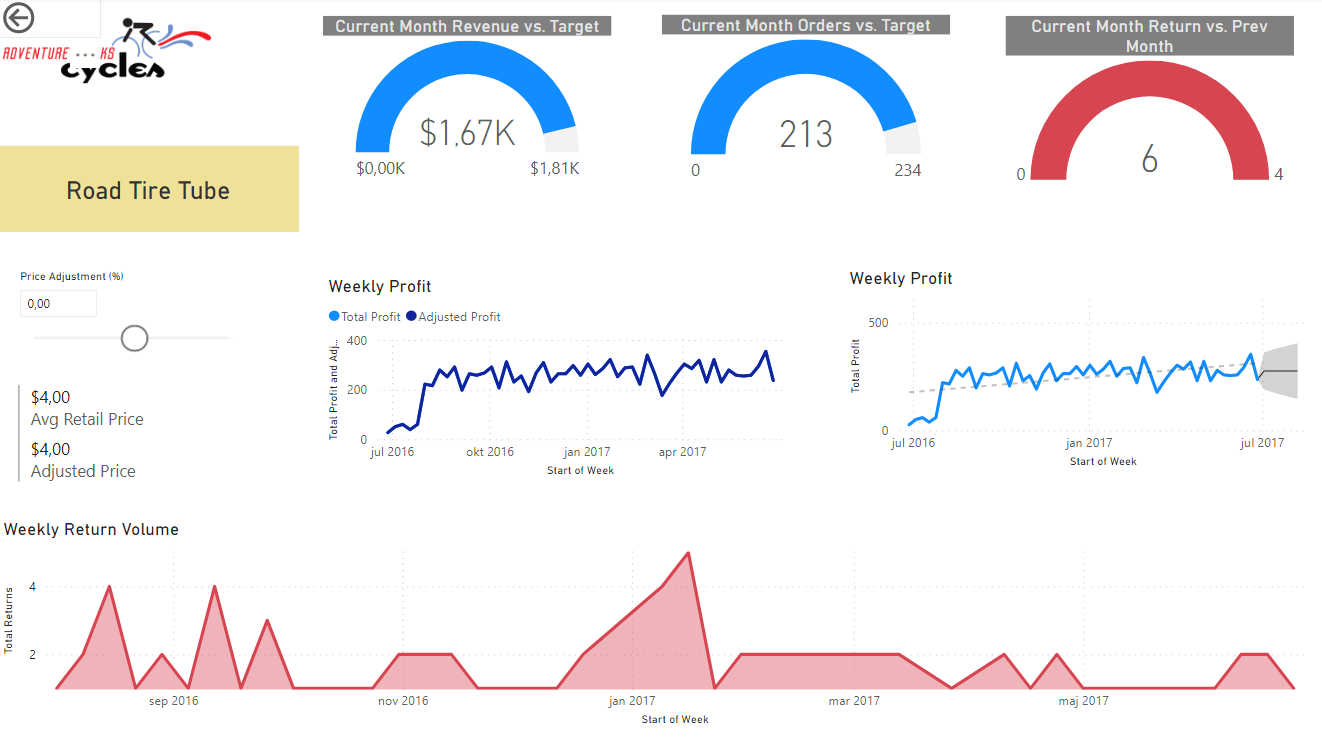

The page's visual inventory and layout, read from the dashboard file:
{"tool":"powerbi","page":{"name":"Product Detail","canvas":[1280,720],"ordinal":1},"visuals":[{"type":"image","box":[0,0,213.3,103.3],"z":0},{"type":"lineChart","title":"Weekly Profit","fields":{"Y":["AW_Sales.Total Profit"],"Category":["AW_Calendar_Lookup.Start of Week"]},"box":[816.2,260,463.8,198.8],"z":1000},{"type":"areaChart","title":"Weekly Return Volume","fields":{"Category":["AW_Calendar_Lookup.Start of Week"],"Y":["AW_Returns.Total Returns"]},"box":[0,503.3,1280,205],"z":2000},{"type":"gauge","title":"Current Month Orders vs. Target","fields":{"Y":["AW_Sales.Total Orders"],"MaxValue":["AW_Sales.Order Target"]},"box":[640,16.7,278.3,171.7],"z":3000},{"type":"gauge","title":"Current Month Revenue vs. Target","fields":{"MaxValue":["AW_Sales.Revenue Target"],"Y":["AW_Sales.Total Revenue"]},"box":[313.3,18.3,278.3,168.3],"z":4000},{"type":"gauge","title":"Current Month Return vs. Prev Month","fields":{"Y":["AW_Returns.Total Returns"],"MaxValue":["AW_Returns.Prev Month Returns"]},"box":[971.7,18.3,278.3,168.3],"z":5000},{"type":"card","fields":{"Values":["Min(AW_Product_Lookup.ProductName)"]},"box":[0,143.3,290,83.3],"z":6000},{"type":"actionButton","box":[0,0,100,40],"z":7000},{"type":"slicer","fields":{"Values":["Price Adjustment (%).Price Adjustment (%)"]},"box":[8.8,257.5,238.8,102.5],"z":8000},{"type":"multiRowCard","fields":{"Values":["AW_Product_Lookup.Avg Retail Price","AW_Product_Lookup.Adjusted Price"]},"box":[15,368.8,226.2,115],"z":9000},{"type":"lineChart","title":"Weekly Profit","fields":{"Y":["AW_Sales.Total Profit","AW_Sales.Adjusted Profit"],"Category":["AW_Calendar_Lookup.Start of Week"]},"box":[313.8,268.8,463.8,198.8],"z":10000}]}

Visuals, with their boxes in screenshot pixels (x1, y1, x2, y2), scaled from the page's 1280x720 canvas onto the 1322x737 screenshot:
image: [0, 0, 220, 106]
"Weekly Profit" lineChart: [843, 266, 1321, 470]
"Weekly Return Volume" areaChart: [0, 515, 1321, 725]
"Current Month Orders vs. Target" gauge: [661, 17, 948, 193]
"Current Month Revenue vs. Target" gauge: [324, 19, 611, 191]
"Current Month Return vs. Prev Month" gauge: [1004, 19, 1291, 191]
card - Min(AW_Product_Lookup.ProductName): [0, 147, 300, 232]
actionButton: [0, 0, 103, 41]
slicer - Price Adjustment (%).Price Adjustment (%): [9, 264, 256, 368]
multiRowCard - AW_Product_Lookup.Avg Retail Price x AW_Product_Lookup.Adjusted Price: [15, 378, 249, 495]
"Weekly Profit" lineChart: [324, 275, 803, 479]
